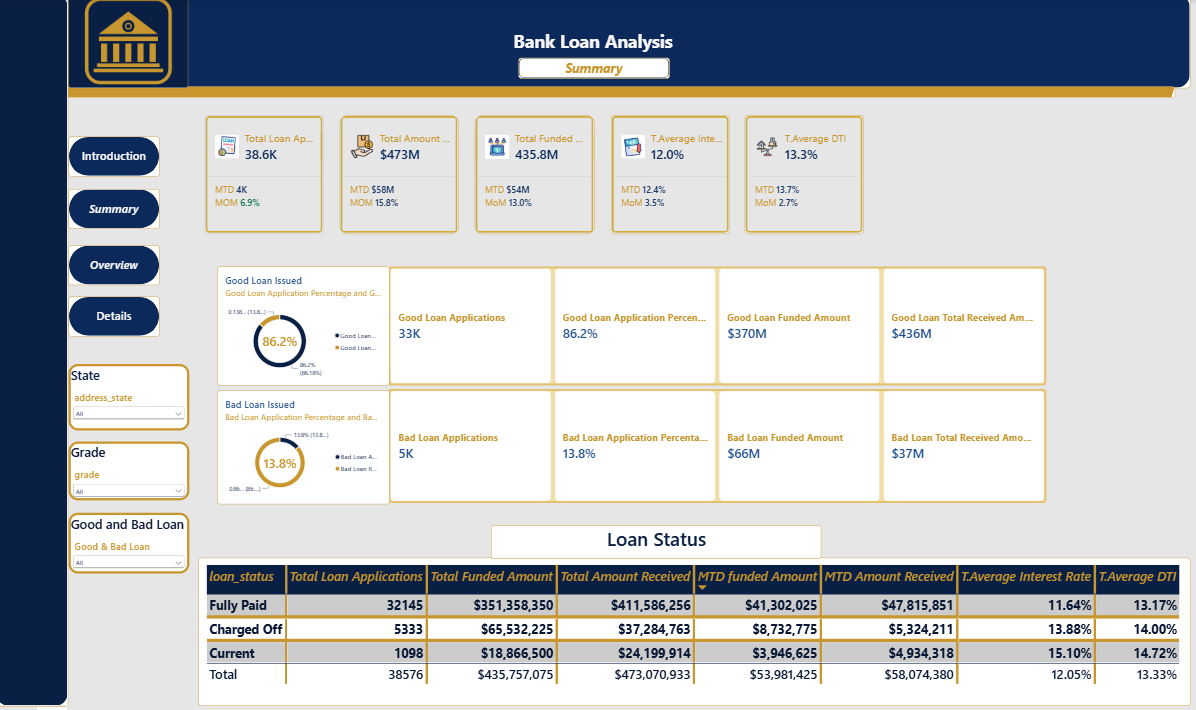

Layout of this report page (visuals, bound fields, positions):
{"tool":"powerbi","page":{"name":"Summary","canvas":[3840,2160],"ordinal":1},"visuals":[{"type":"cardVisual","fields":{"Data":["_Measures.Total Loan Applications"]},"box":[386,222,388,300],"z":0},{"type":"cardVisual","fields":{"Data":["_Measures.Total Funded Amount"]},"box":[1282,222,414,300],"z":1000},{"type":"cardVisual","fields":{"Data":["_Measures.Total Amount Received"]},"box":[836,222,386,300],"z":2000},{"type":"cardVisual","fields":{"Data":["_Measures.T.Average DTI"]},"box":[2226,216,292,306],"z":3000},{"type":"shape","box":[32,18,300,252],"z":4000},{"type":"image","box":[16,38,332,232],"z":5000},{"type":"actionButton","box":[32,296,192,84],"z":6000},{"type":"actionButton","box":[37.5,522.5,192,84],"z":7000},{"type":"actionButton","box":[35,650,192,84],"z":8000},{"type":"actionButton","box":[37.5,407.5,192,84],"z":9000},{"type":"slicer","title":"State","fields":{"Values":["financial_loan.address_state"]},"box":[36,756,254,140],"z":10000},{"type":"slicer","title":"Grade","fields":{"Values":["financial_loan.grade"]},"box":[36,918,254,124],"z":11000},{"type":"slicer","title":"Good and Bad Loan","fields":{"Values":["financial_loan.Good & Bad Loan"]},"box":[36,1080,254,128],"z":12000},{"type":"shape","box":[567.5,17.5,1062.5,165],"z":13000},{"type":"cardVisual","fields":{"Data":["_Measures.Average Interest Rate"]},"box":[1764,218,362,306],"z":14000},{"type":"donutChart","title":"Good & Bad Loan","fields":{"Category":["financial_loan.Good & Bad Loan"],"Y":["_Measures.Total Loan Applications"]},"box":[368,606,468,348],"z":15000},{"type":"donutChart","fields":{"Category":["financial_loan.Good & Bad Loan"],"Y":["_Measures.Total Funded Amount"]},"box":[914,606,508,348],"z":16000},{"type":"donutChart","fields":{"Category":["financial_loan.Good & Bad Loan"],"Y":["_Measures.Total Amount Received"]},"box":[1524,606,564,350],"z":17000},{"type":"tableEx","fields":{"Values":["financial_loan.loan_status","_Measures.Total Loan Applications","_Measures.Total Funded Amount","_Measures.Total Amount Received","_Measures.MTD funded Amount","_Measures.MTD Amount Received","_Measures.T.Average Interest Rate","_Measures.T.Average DTI"]},"box":[368,998,2166,292],"z":18000}]}

Visuals, with their boxes on the page's 3840x2160 design canvas (x1, y1, x2, y2). These are canvas units, not pixel positions in the 1196x710 screenshot, which may show the page scaled, cropped or inside an application window:
cardVisual - _Measures.Total Loan Applications: BBox(386, 222, 774, 522)
cardVisual - _Measures.Total Funded Amount: BBox(1282, 222, 1696, 522)
cardVisual - _Measures.Total Amount Received: BBox(836, 222, 1222, 522)
cardVisual - _Measures.T.Average DTI: BBox(2226, 216, 2518, 522)
shape: BBox(32, 18, 332, 270)
image: BBox(16, 38, 348, 270)
actionButton: BBox(32, 296, 224, 380)
actionButton: BBox(38, 522, 230, 606)
actionButton: BBox(35, 650, 227, 734)
actionButton: BBox(38, 408, 230, 492)
"State" slicer: BBox(36, 756, 290, 896)
"Grade" slicer: BBox(36, 918, 290, 1042)
"Good and Bad Loan" slicer: BBox(36, 1080, 290, 1208)
shape: BBox(568, 18, 1630, 182)
cardVisual - _Measures.Average Interest Rate: BBox(1764, 218, 2126, 524)
"Good & Bad Loan" donutChart: BBox(368, 606, 836, 954)
donutChart - financial_loan.Good & Bad Loan x _Measures.Total Funded Amount: BBox(914, 606, 1422, 954)
donutChart - financial_loan.Good & Bad Loan x _Measures.Total Amount Received: BBox(1524, 606, 2088, 956)
tableEx - financial_loan.loan_status x _Measures.Total Loan Applications: BBox(368, 998, 2534, 1290)
